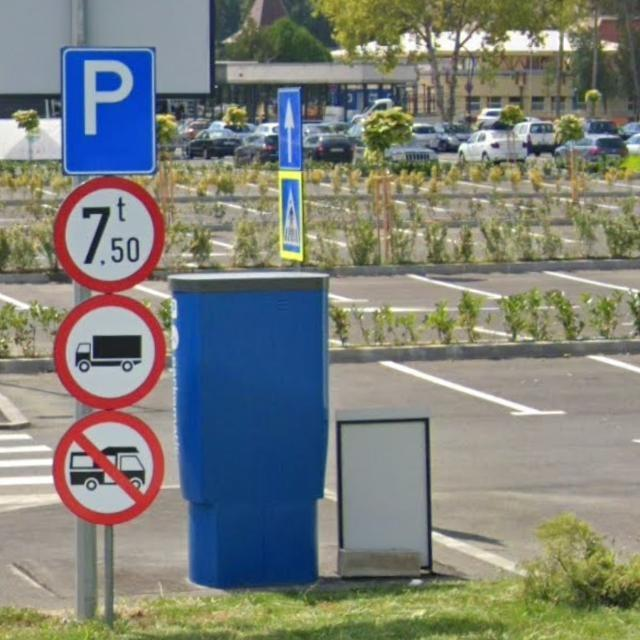info_crosswalk: (279, 175, 306, 262)
